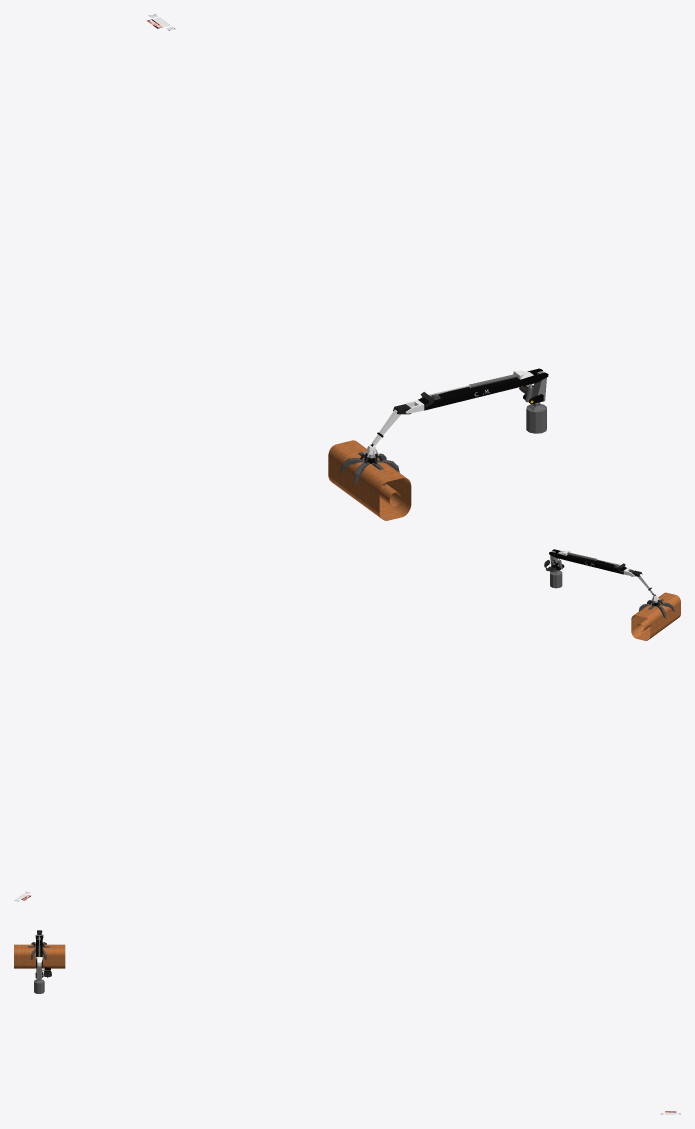
The model's file is LoaderBody-withwoodbunch.dae.
3 renders of one model, top to bottom at view 1: azimuth 30°, elevation 25°; view 2: azimuth 150°, elevation 25°; view 3: azimuth 270°, elevation 25°, orthographic. The views are drawn at different scales.
Parts seen in each view (by area): view 1: instance_8, instance_2; view 2: instance_8, instance_2; view 3: instance_8.
Boxes of the visible parts, x1,y1,x2,y2 form: instance_8: (328,440,411,520); instance_2: (418,368,548,410); instance_8: (631,592,680,640); instance_2: (549,549,626,574); instance_8: (14,944,65,968).
Size of the model in its own units: 588 by 1508 by 223.
